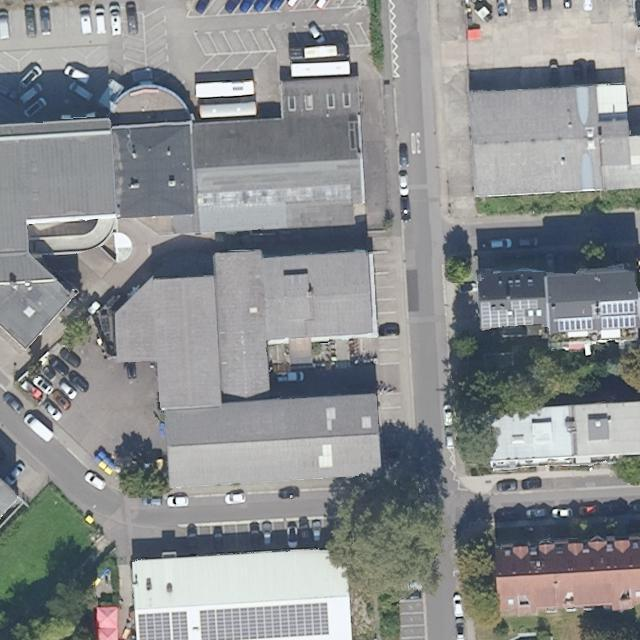PV: (197, 600, 332, 639), (478, 298, 541, 330), (136, 610, 191, 639)
